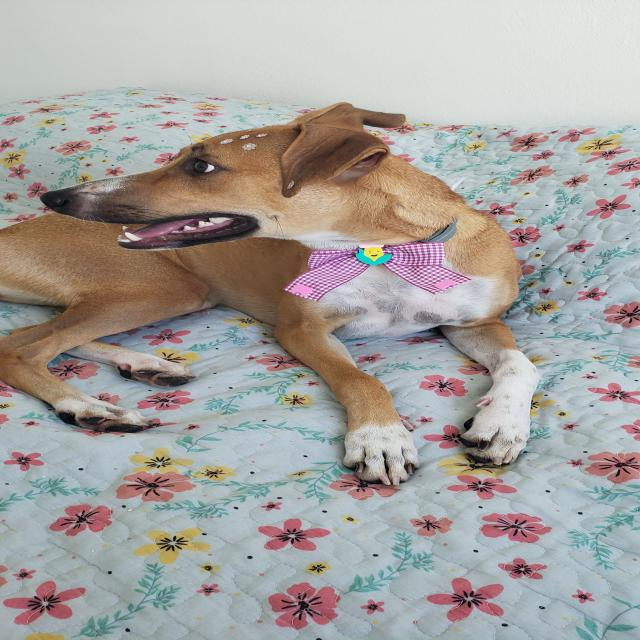laying down: (0, 98, 581, 490)
